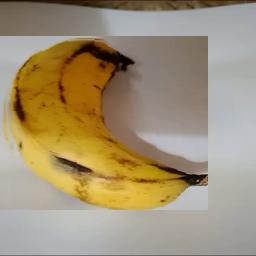Banana Semifresh: (0, 37, 208, 211)
